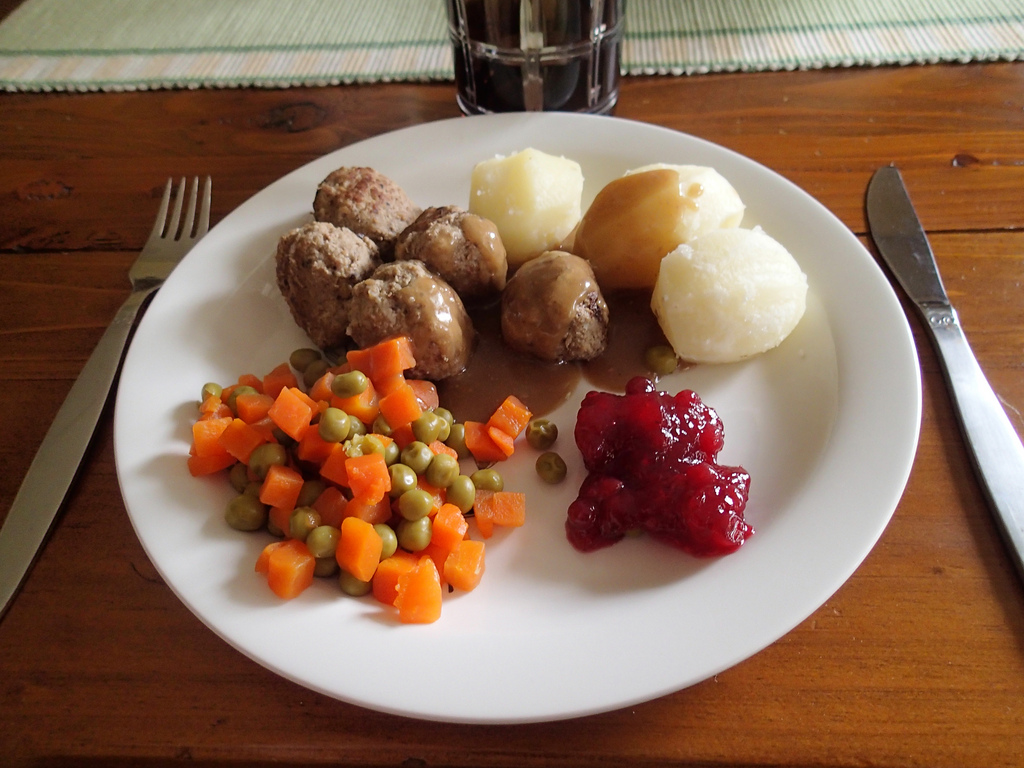boiled peas: (270, 378, 488, 589)
boiled potatoes: (635, 230, 813, 350), (596, 161, 739, 271), (450, 151, 581, 248)
meatballs: (351, 252, 450, 358), (281, 224, 367, 339), (505, 258, 598, 351), (411, 205, 491, 295), (323, 161, 410, 237)
